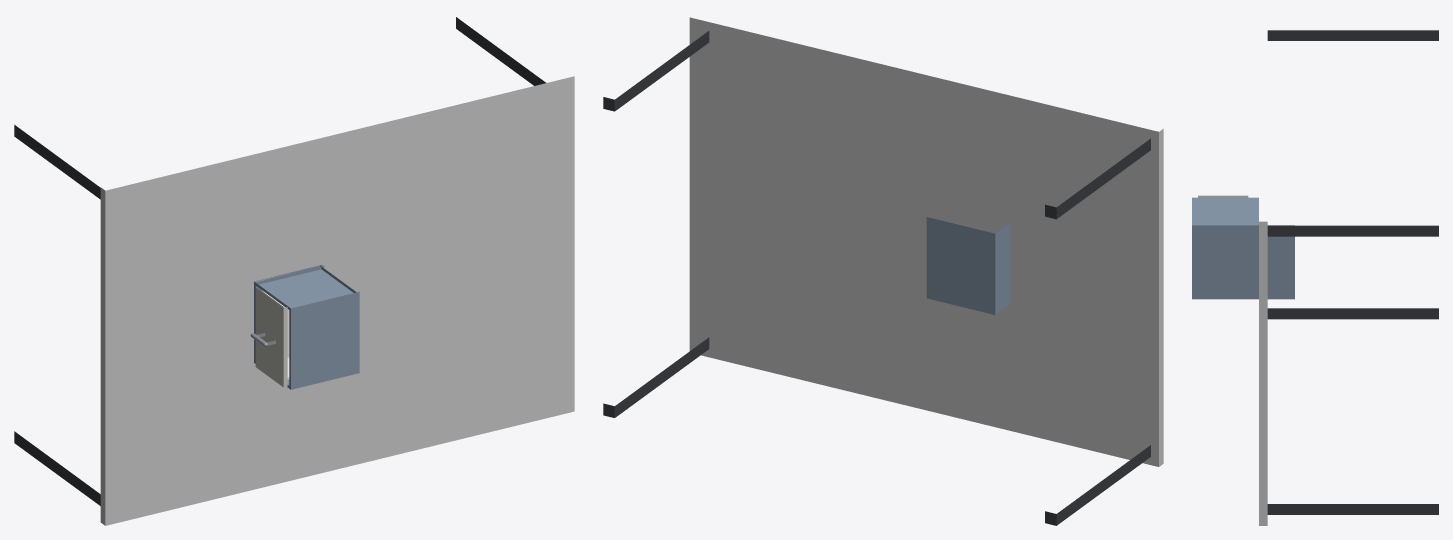
Rendered from t2_8deec22728.glb.
The picture shows the model from 3 angles, left to right: view 1: azimuth 30°, elevation 25°; view 2: azimuth 150°, elevation 25°; view 3: azimuth 270°, elevation 25°; orthographic projection. The views are drawn at different scales.
Visible parts, largest first — view 1: s0, s1, s2; view 2: s0, s1; view 3: s0, s1.
Boxes of the visible parts, x1,y1,x2,y2 form: s0: (14,17,574,525); s1: (254,264,359,389); s2: (250,288,289,387); s0: (603,17,1163,525); s1: (926,217,1010,314); s0: (1259,30,1438,525); s1: (1192,197,1294,299).
Size of the model in its own units: 2.05 by 1.4 by 1.03.
